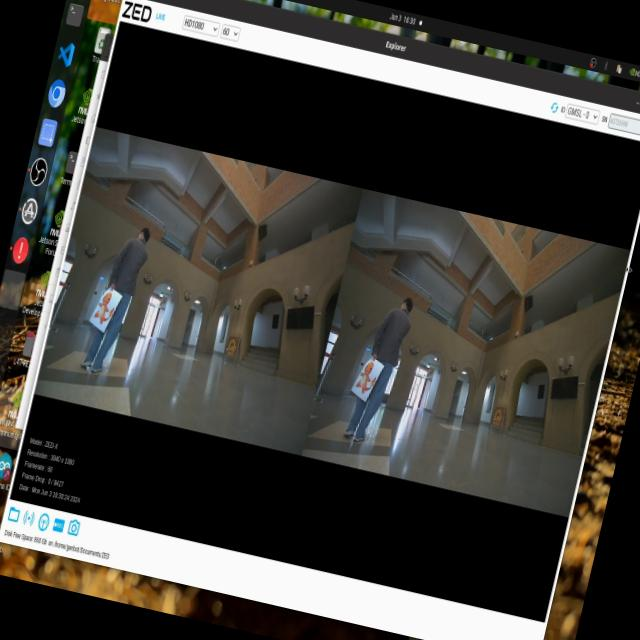red: (352, 350, 384, 402), (90, 283, 119, 325)
